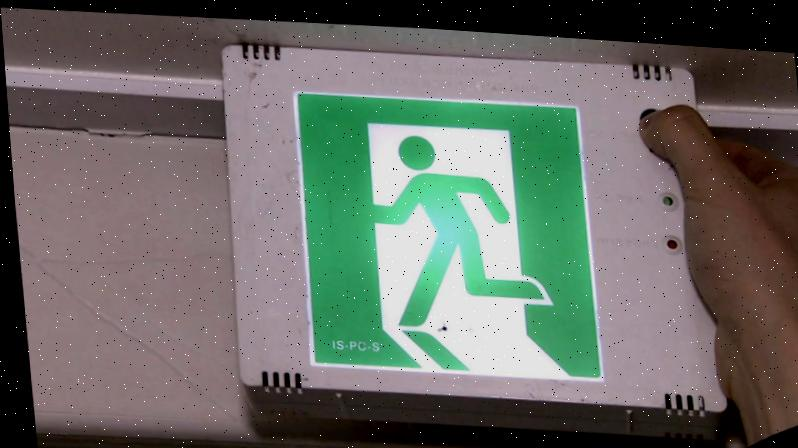emergency_exit: (220, 40, 728, 437), (293, 88, 606, 384)
